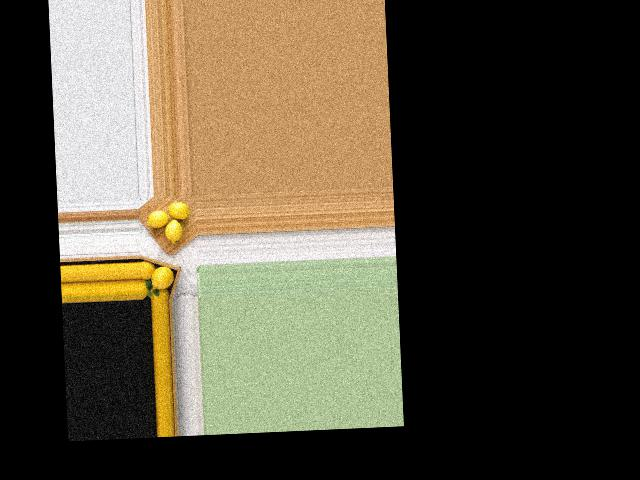lemon: (167, 199, 194, 224)
